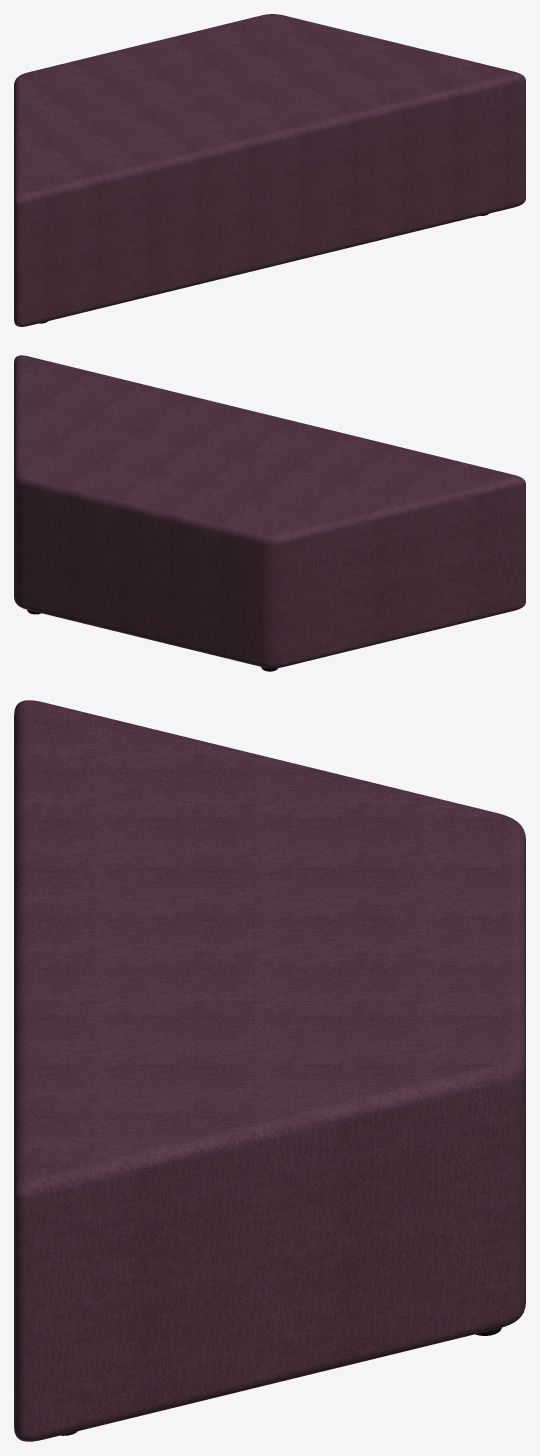
The model's file is Trape ottoman.FBX.
The picture shows the model from 3 angles, top to bottom: view 1: azimuth 30°, elevation 25°; view 2: azimuth 150°, elevation 25°; view 3: azimuth 270°, elevation 25°; orthographic projection. The views are drawn at different scales.
Parts seen in each view (by area): view 1: Shape004; view 2: Shape004; view 3: Shape004.
Boxes of the visible parts, <box> form: Shape004: <box>14,14,525,326</box>; Shape004: <box>14,355,525,668</box>; Shape004: <box>14,700,525,1441</box>.
Bounding box in the file's own units: 1707 × 450 × 750.
2 materials, 1 textured.
